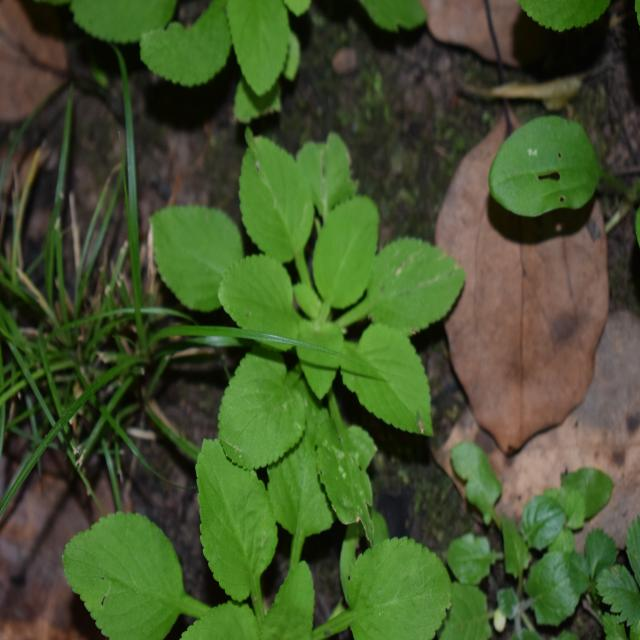Viola: (206, 120, 442, 468)
